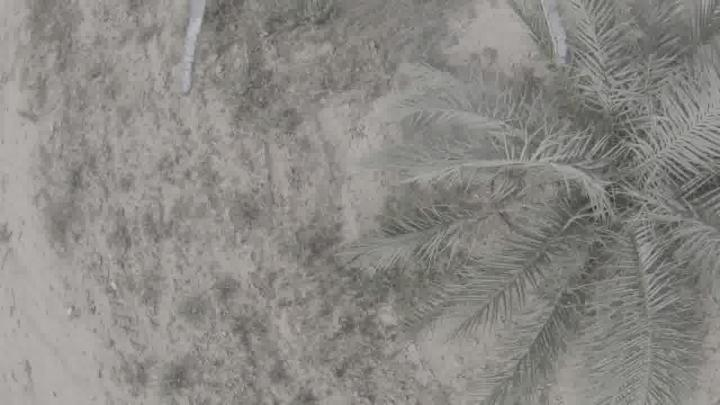Date-Palm-Crown: (484, 49, 720, 339)
